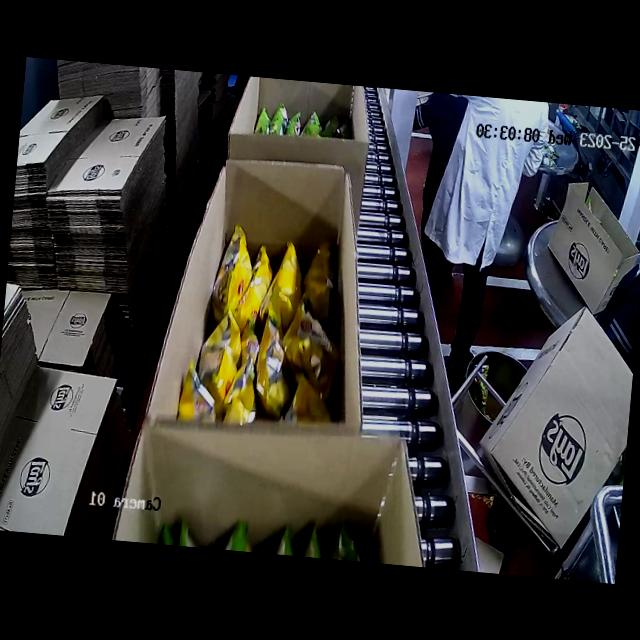salted: (175, 218, 353, 434)
yogurt: (148, 502, 390, 564), (243, 109, 351, 142)
